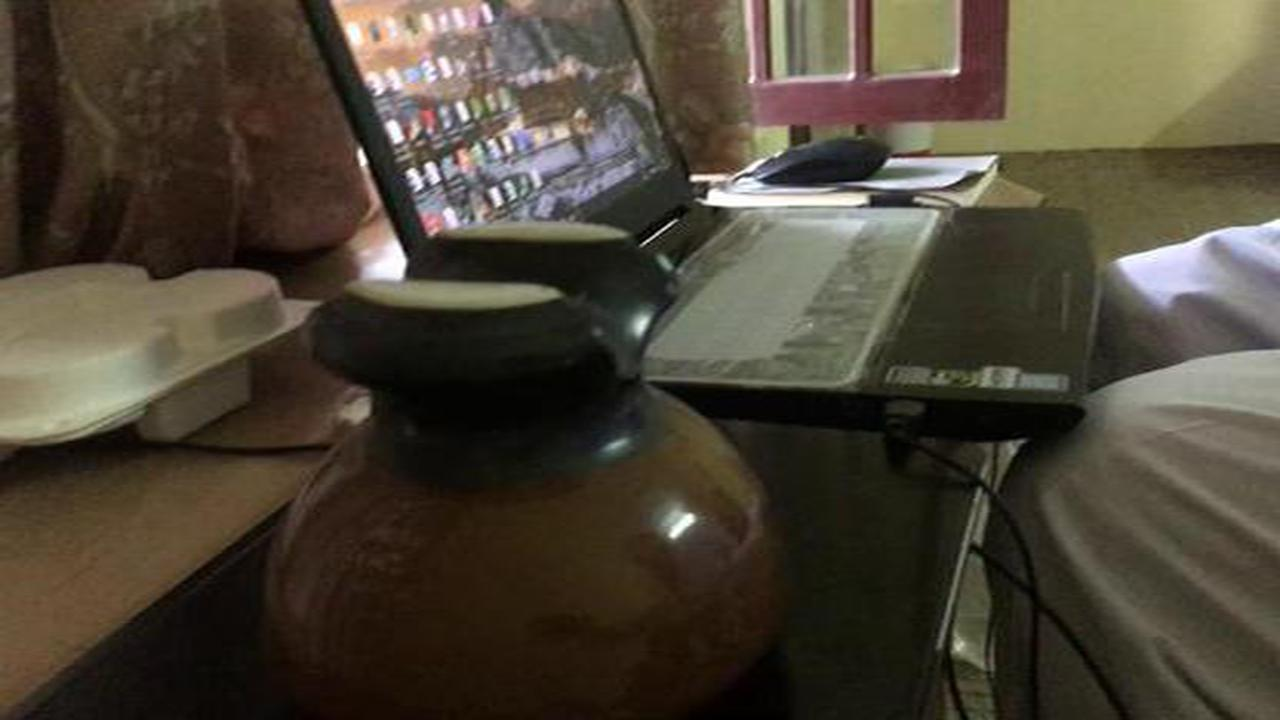insulator_pin: (234, 206, 810, 712)
